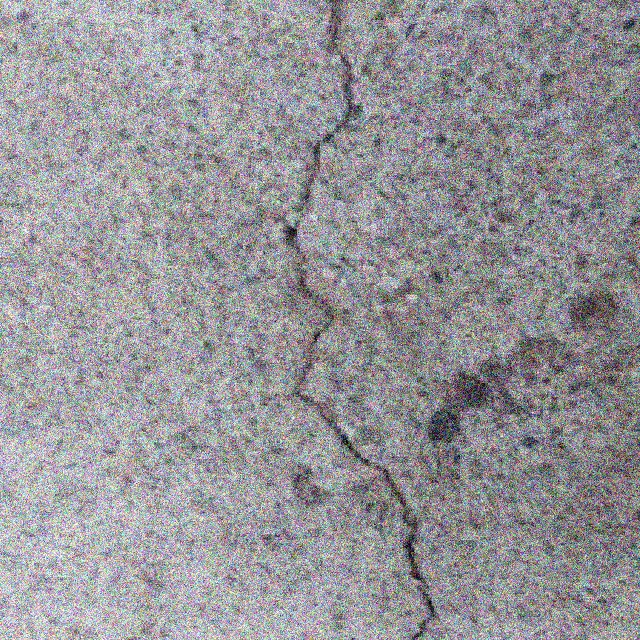SurfaceCrack: (254, 0, 450, 640)
